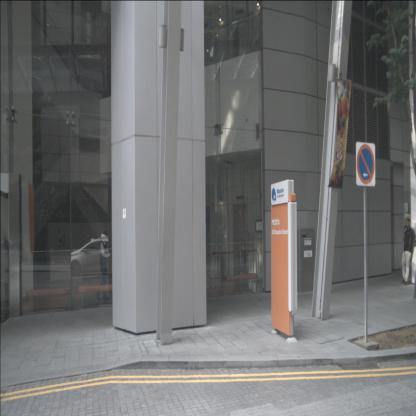human-pedestrian-adult: (401, 218, 416, 286)
